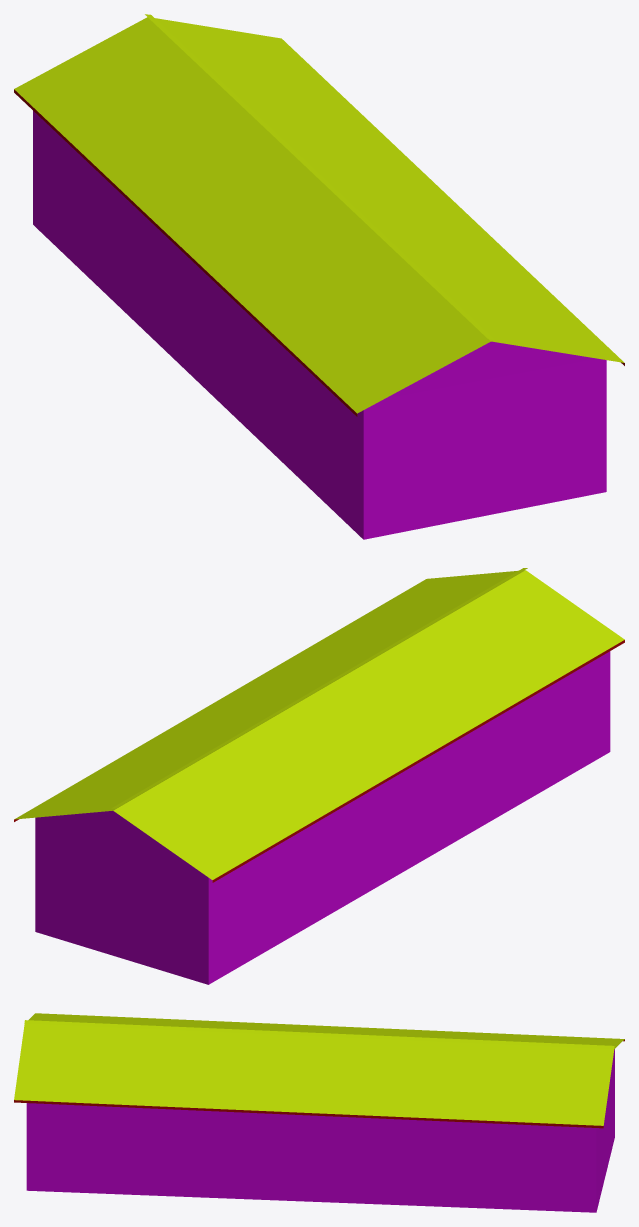
The model's file is rmc_9.glb.
3 views of the same model, one above another, from view 1: azimuth 30°, elevation 25°; view 2: azimuth 150°, elevation 25°; view 3: azimuth 270°, elevation 25° (orthographic). The views are drawn at different scales.
Parts seen in each view (by area): view 1: rmc_9; view 2: rmc_9; view 3: rmc_9.
Boxes of the visible parts, x1,y1,x2,y2 form: rmc_9: (14, 14, 624, 539); rmc_9: (14, 568, 624, 984); rmc_9: (14, 1013, 624, 1212).
Size of the model in its own units: 12.01 by 6.43 by 27.51.
